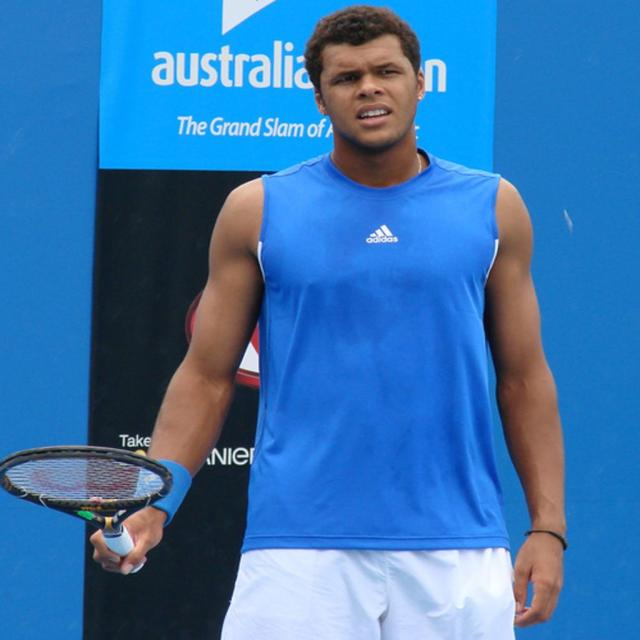Face: (311, 44, 423, 149)
